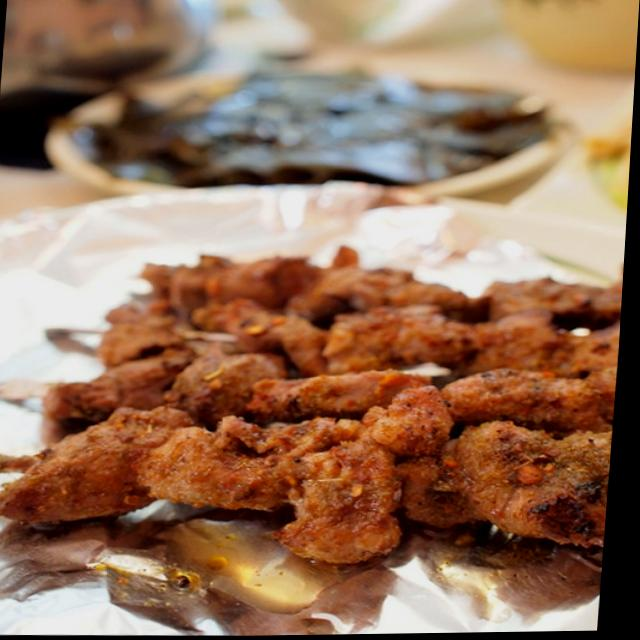烧串烤肉: (0, 204, 630, 631)
